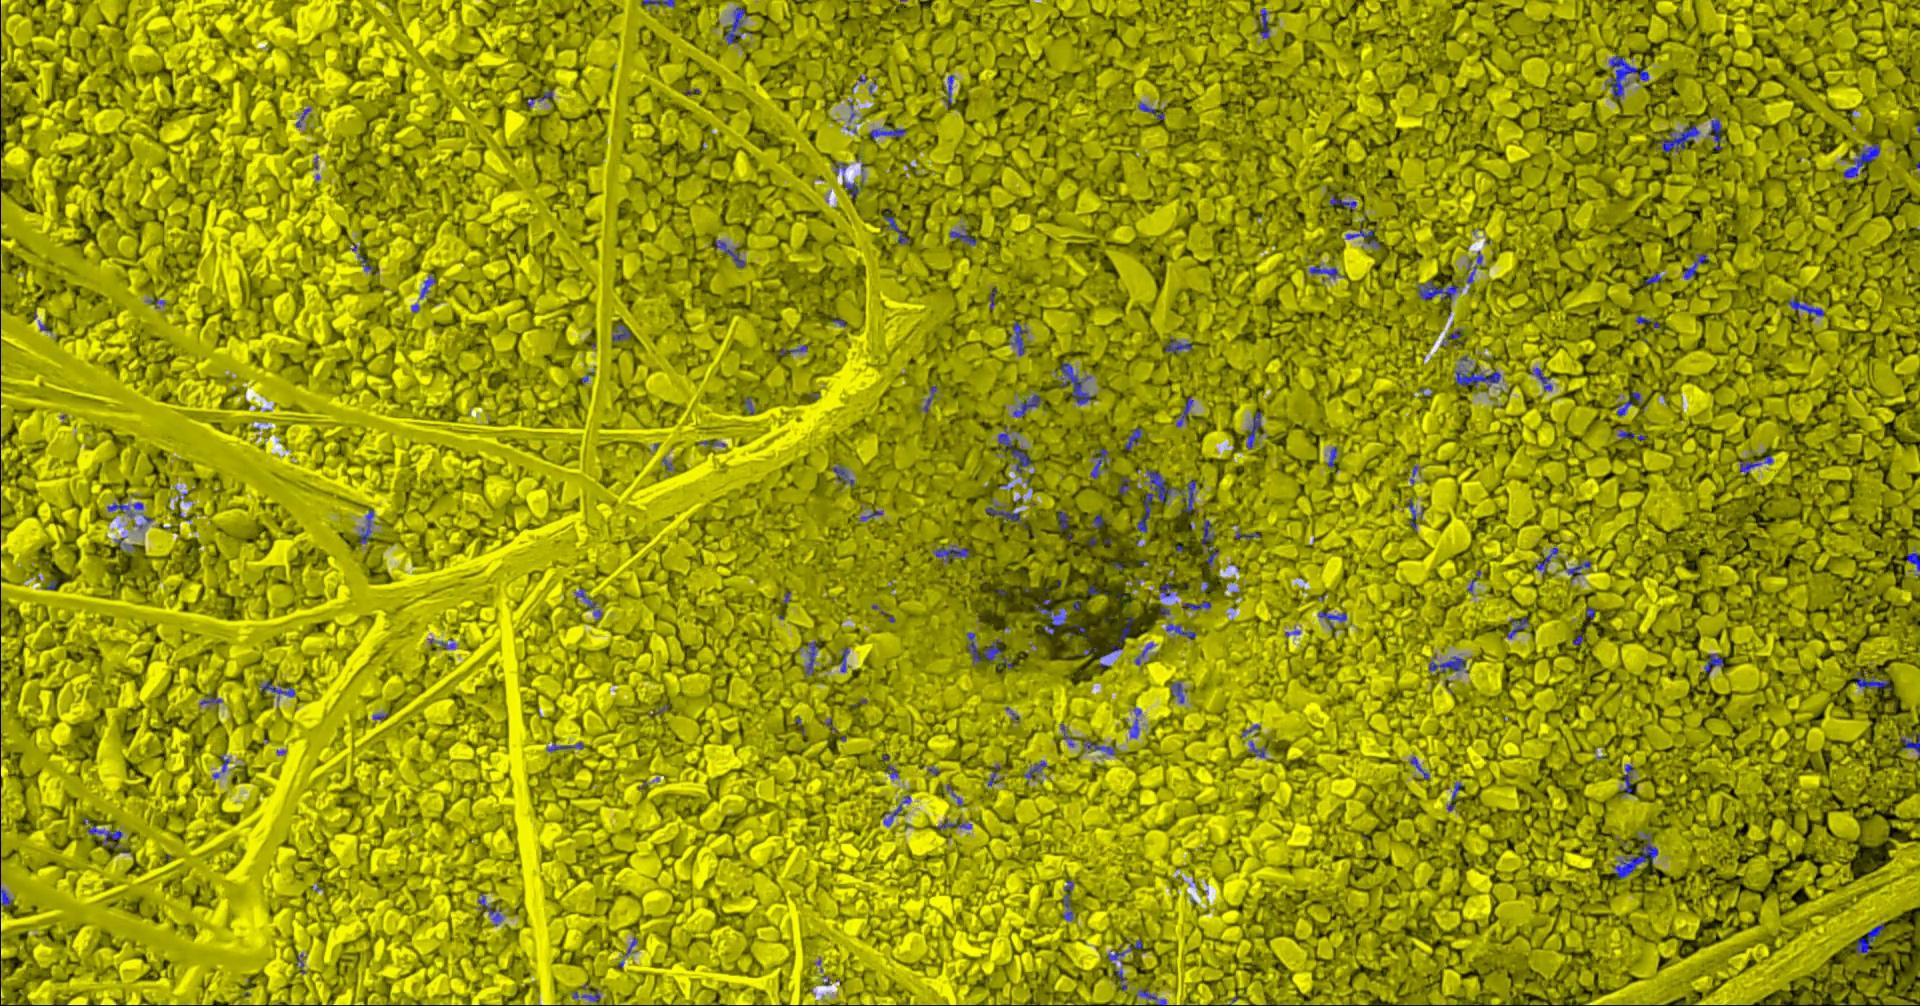ant: (1138, 469, 1177, 532), (1617, 832, 1658, 878), (1606, 55, 1650, 98), (999, 426, 1032, 473), (1100, 616, 1135, 659), (1062, 362, 1095, 404), (1844, 144, 1881, 177), (1658, 124, 1702, 152), (1037, 598, 1069, 634), (968, 633, 1004, 662), (987, 504, 1029, 528), (1457, 365, 1502, 386), (725, 6, 748, 44), (716, 239, 747, 267), (575, 588, 603, 619), (1203, 520, 1220, 567), (1857, 923, 1884, 953), (885, 795, 912, 826), (89, 824, 124, 847), (1109, 939, 1144, 962), (1418, 279, 1460, 298), (479, 892, 503, 925), (1857, 671, 1893, 691), (1684, 251, 1710, 279), (1347, 225, 1382, 246), (885, 215, 910, 243), (1430, 655, 1467, 674), (262, 680, 296, 699), (1015, 394, 1043, 417), (1537, 547, 1559, 575), (1010, 321, 1029, 354), (1789, 298, 1826, 315), (1741, 455, 1774, 473), (1618, 391, 1641, 417), (1248, 412, 1263, 448), (936, 545, 971, 560), (1566, 560, 1592, 580), (1468, 250, 1484, 282), (1182, 479, 1197, 512), (361, 507, 375, 542), (1321, 610, 1349, 627), (1533, 367, 1554, 390), (1092, 448, 1109, 478), (109, 502, 143, 516), (1509, 616, 1530, 638), (1167, 622, 1197, 638), (1411, 756, 1431, 779), (1064, 879, 1076, 920), (950, 229, 978, 245), (1177, 398, 1194, 426), (806, 641, 820, 674), (528, 89, 554, 107), (1139, 102, 1164, 119), (1138, 989, 1167, 1005), (1084, 741, 1116, 754), (1331, 193, 1357, 210), (1901, 733, 1920, 756), (1025, 760, 1049, 777), (1448, 782, 1463, 810), (1167, 338, 1192, 354), (833, 466, 855, 485), (1705, 653, 1724, 674), (1710, 119, 1724, 149), (924, 385, 938, 412), (872, 128, 908, 138), (1310, 265, 1338, 278), (1128, 427, 1143, 450), (938, 819, 973, 829), (613, 323, 632, 340), (1443, 329, 1463, 345), (1130, 708, 1142, 737), (844, 175, 860, 197), (422, 277, 437, 298), (549, 742, 585, 751), (573, 989, 601, 1001), (778, 344, 809, 354), (1408, 499, 1418, 528), (1625, 763, 1636, 793), (1636, 315, 1661, 326), (1907, 553, 1920, 575), (1619, 429, 1647, 439), (1251, 741, 1267, 757), (1261, 8, 1270, 38), (1643, 272, 1663, 285), (1172, 682, 1185, 702), (1183, 600, 1211, 608), (1, 885, 13, 906), (1328, 446, 1338, 467), (1059, 511, 1070, 530), (643, 0, 676, 6), (1119, 478, 1131, 494), (1236, 531, 1262, 539), (949, 75, 955, 105), (842, 647, 850, 671), (745, 398, 756, 414), (1161, 583, 1173, 596), (1095, 514, 1105, 527)
